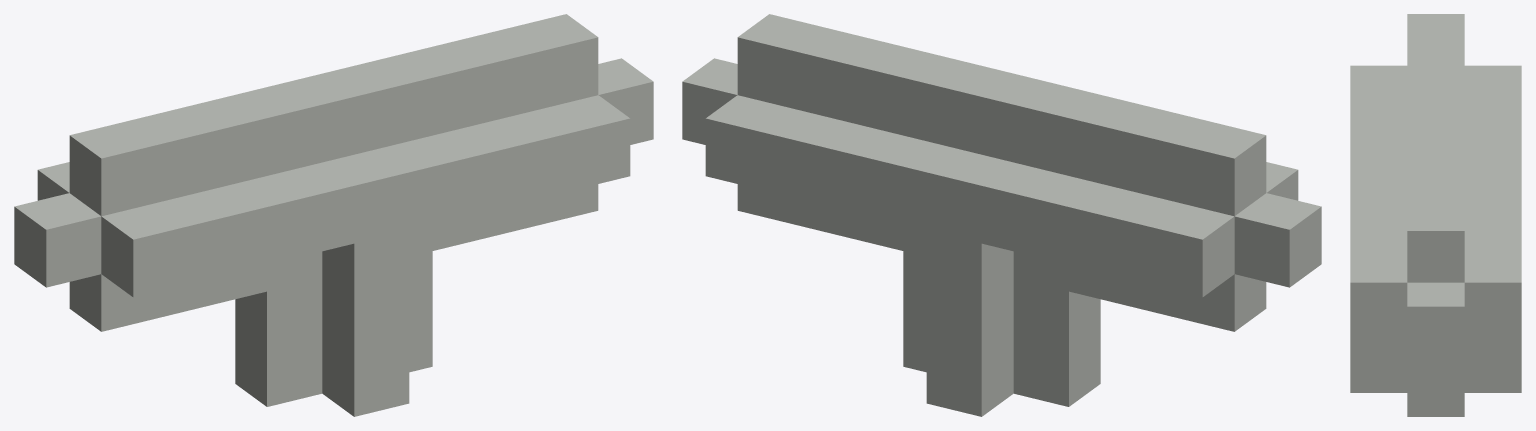
Rendered from rover01.obj.
3 renders of one model, left to right at view 1: azimuth 30°, elevation 25°; view 2: azimuth 150°, elevation 25°; view 3: azimuth 270°, elevation 25°, orthographic. The views are drawn at different scales.
Visible parts, largest first — view 1: rover01; view 2: rover01; view 3: rover01.
Part boxes in pixels (x1,y1,x2,y2): rover01: (14,14,653,416); rover01: (682,14,1321,416); rover01: (1350,14,1521,416).
Bounding box in the file's own units: 11 × 5 × 3.
1 material, 1 textured.
